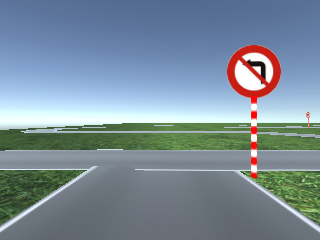0: (1, 200, 320, 238)
NoLeft: (226, 45, 281, 97)
